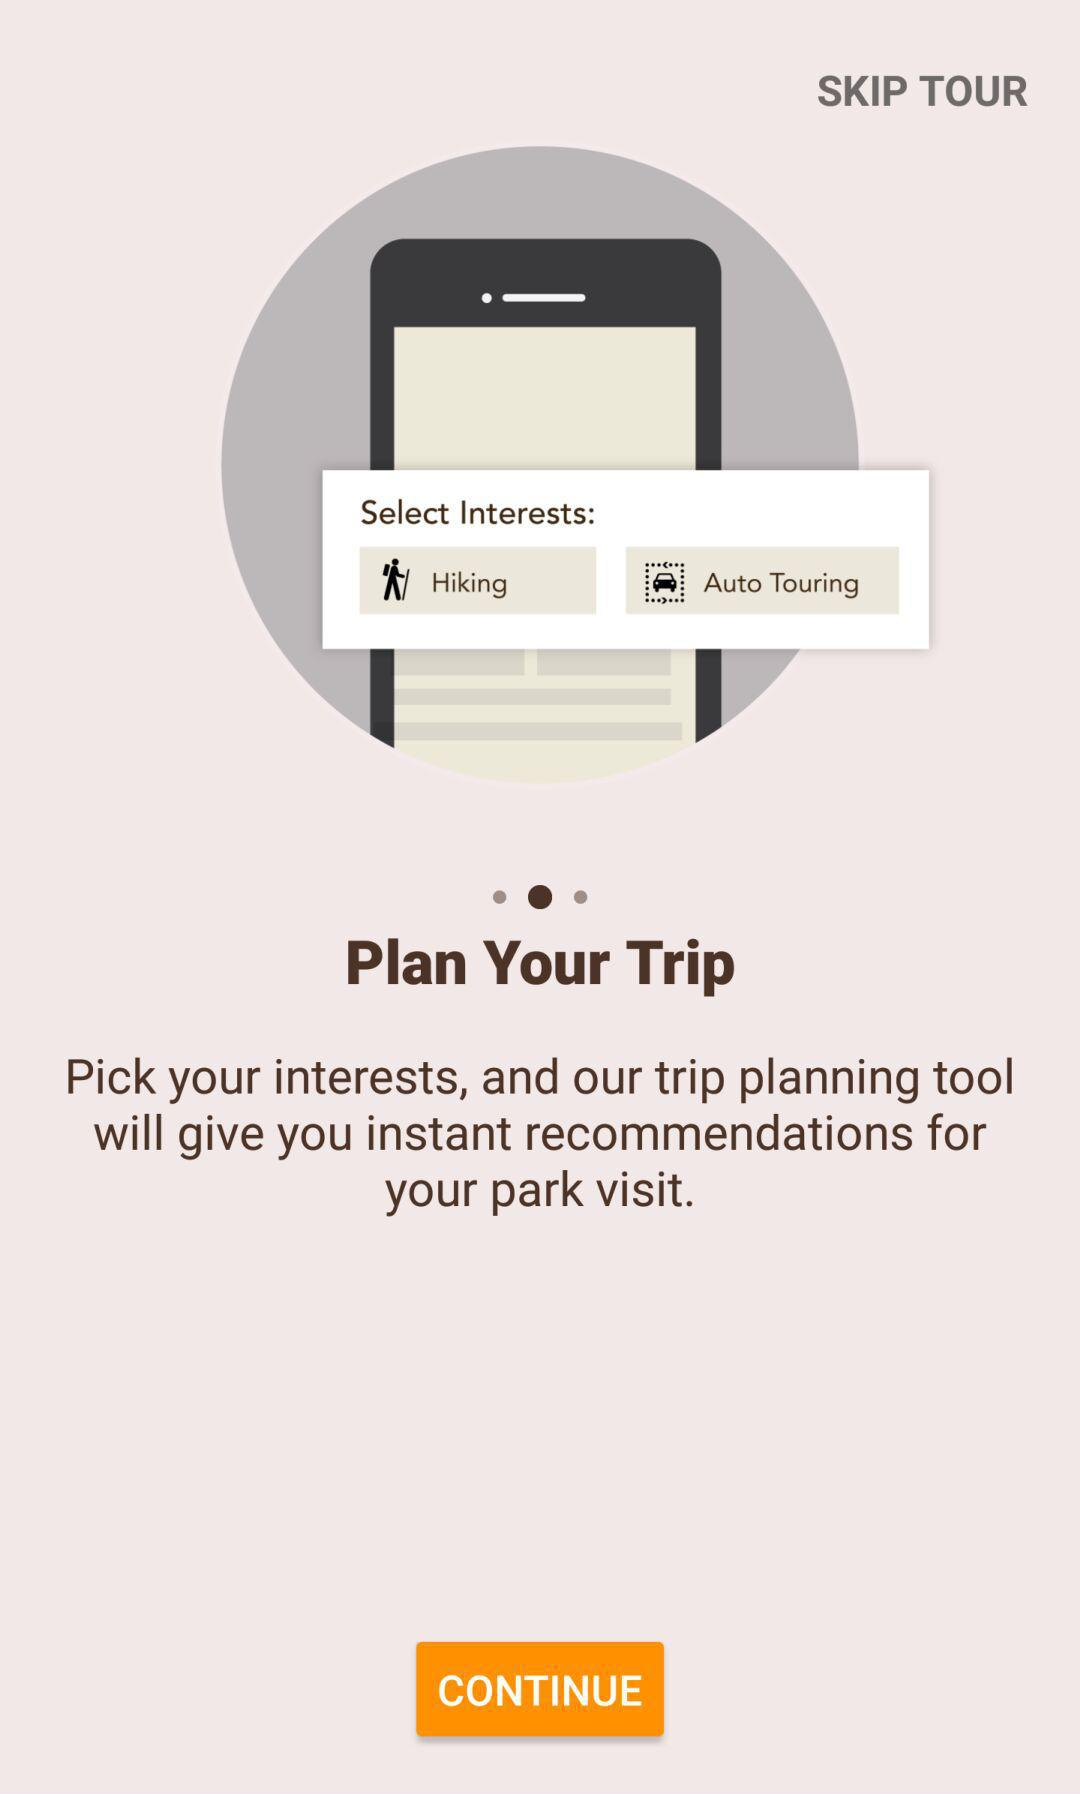Image: (220, 145, 931, 786)
PageIndicator: (492, 885, 589, 911)
Text: (68, 1057, 1013, 1219), (348, 938, 735, 998), (817, 76, 1029, 108)
TextButton: (416, 1642, 665, 1738)
